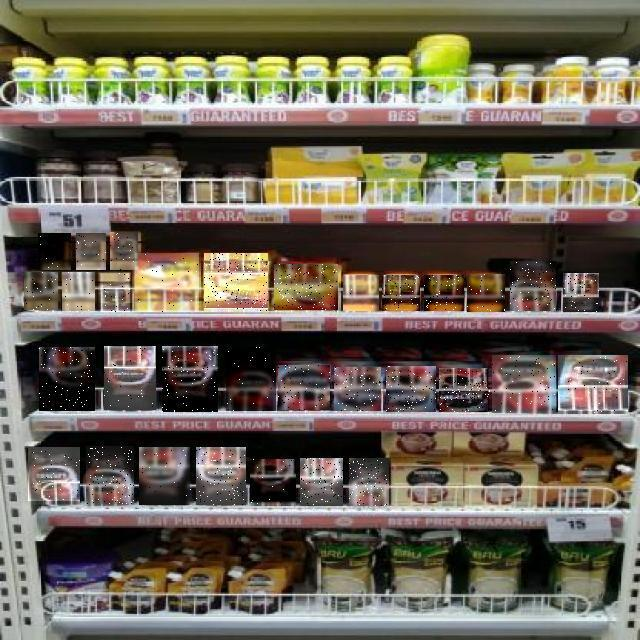Coffee: (558, 356, 628, 414), (135, 253, 199, 312), (204, 254, 268, 312), (492, 355, 556, 413), (162, 346, 218, 412), (39, 347, 95, 411), (104, 347, 156, 411), (226, 347, 276, 411), (140, 447, 192, 505), (274, 264, 338, 310), (28, 448, 80, 504), (196, 447, 246, 505), (86, 447, 134, 505), (278, 365, 330, 410), (510, 261, 556, 311), (386, 366, 436, 412), (440, 368, 492, 412), (250, 460, 296, 506), (334, 367, 381, 411), (300, 459, 343, 507), (349, 459, 389, 507), (467, 274, 505, 312), (424, 275, 464, 311), (563, 273, 599, 312), (382, 275, 420, 311), (343, 275, 379, 311), (24, 272, 58, 310), (62, 272, 95, 311), (38, 233, 71, 270), (101, 273, 131, 312), (77, 233, 107, 270), (111, 232, 139, 270)
